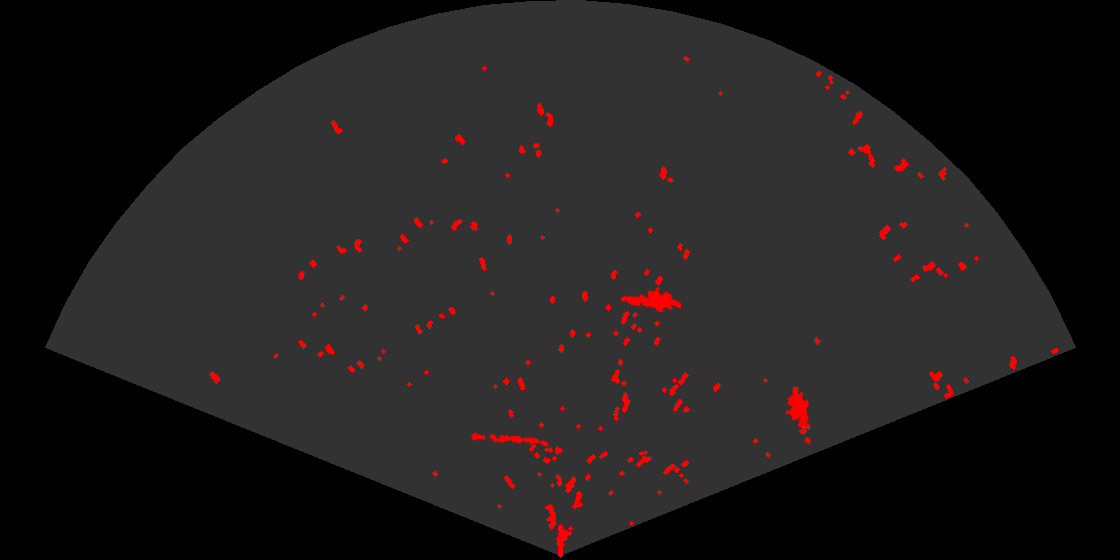chain: (469, 430, 550, 448)
frogman: (619, 285, 681, 314), (783, 387, 812, 445)
